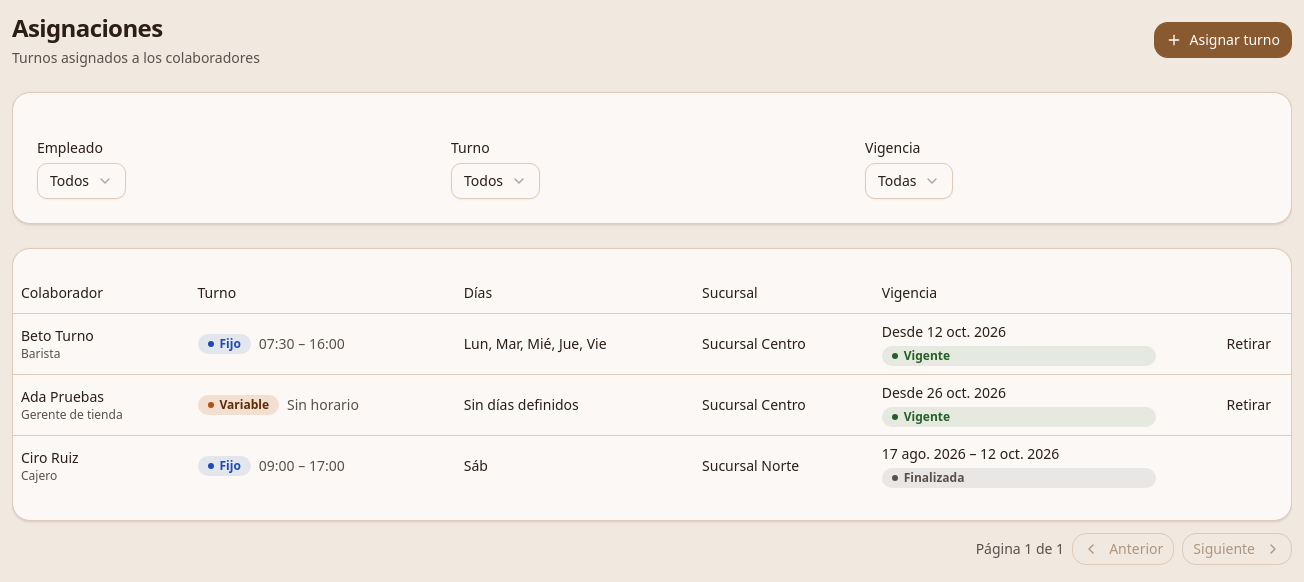
Scenario: Listado de asignaciones › filtra por empleado
expect the text "Beto Turno" is shown: met, box top-left (21, 326), bottom-right (94, 344)
Click the dropdown named "Empleado".
click(82, 181)  # box top-left (37, 163), bottom-right (126, 199)
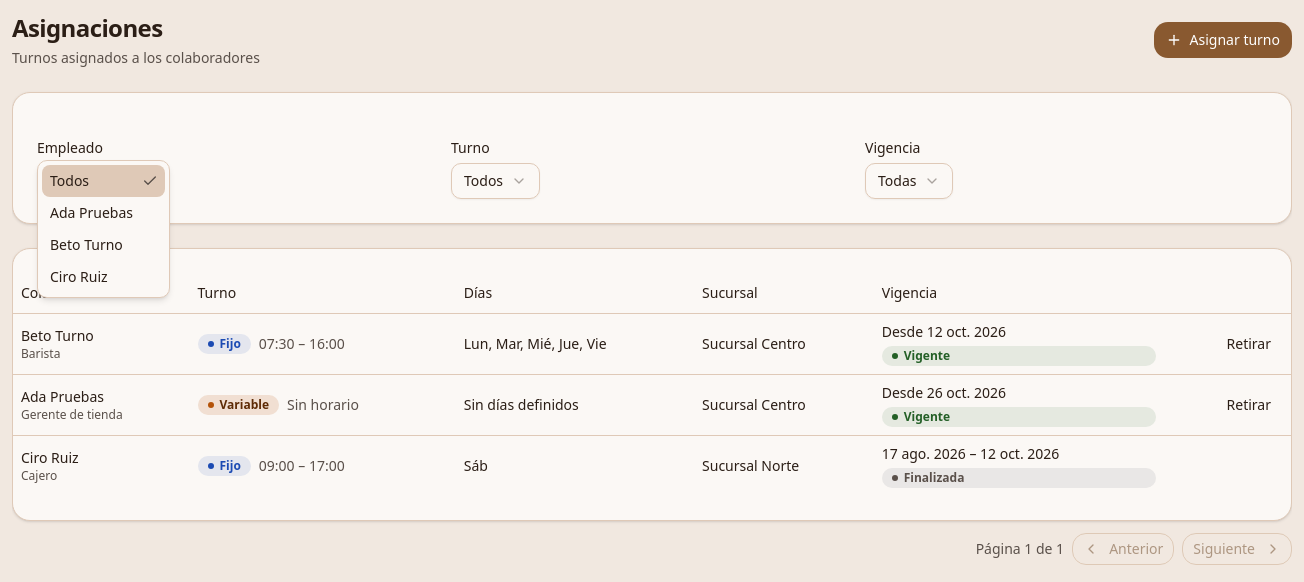
Click the option "Ada Pruebas".
click(92, 212)  # box top-left (50, 203), bottom-right (133, 222)
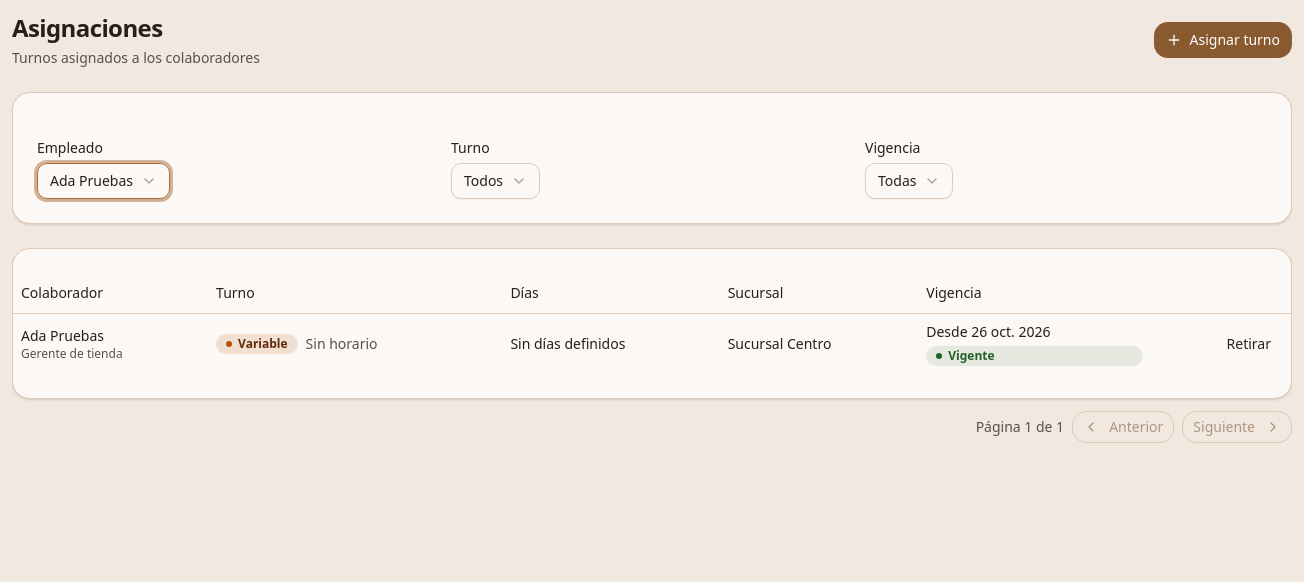
expect the text "Beto Turno" is gone: met
expect the text "Ada Pruebas" below "Empleado" is shown: met, box top-left (50, 171), bottom-right (133, 190)
